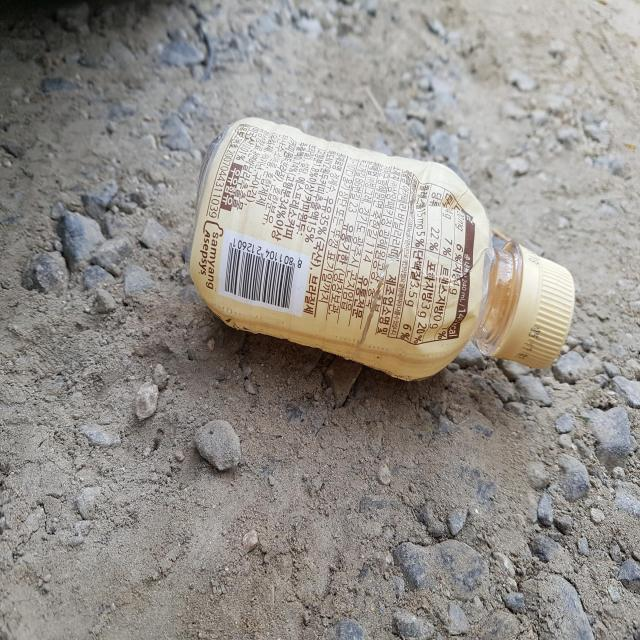plastic: (189, 117, 576, 380)
